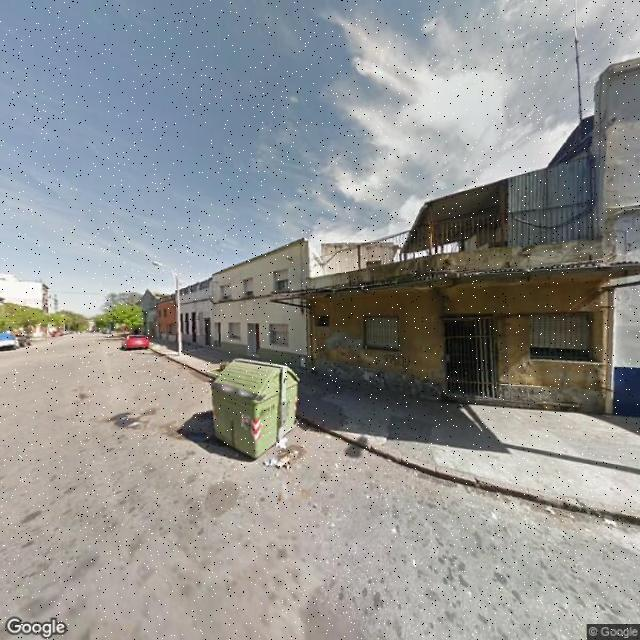garbage container: (200, 350, 319, 472)
